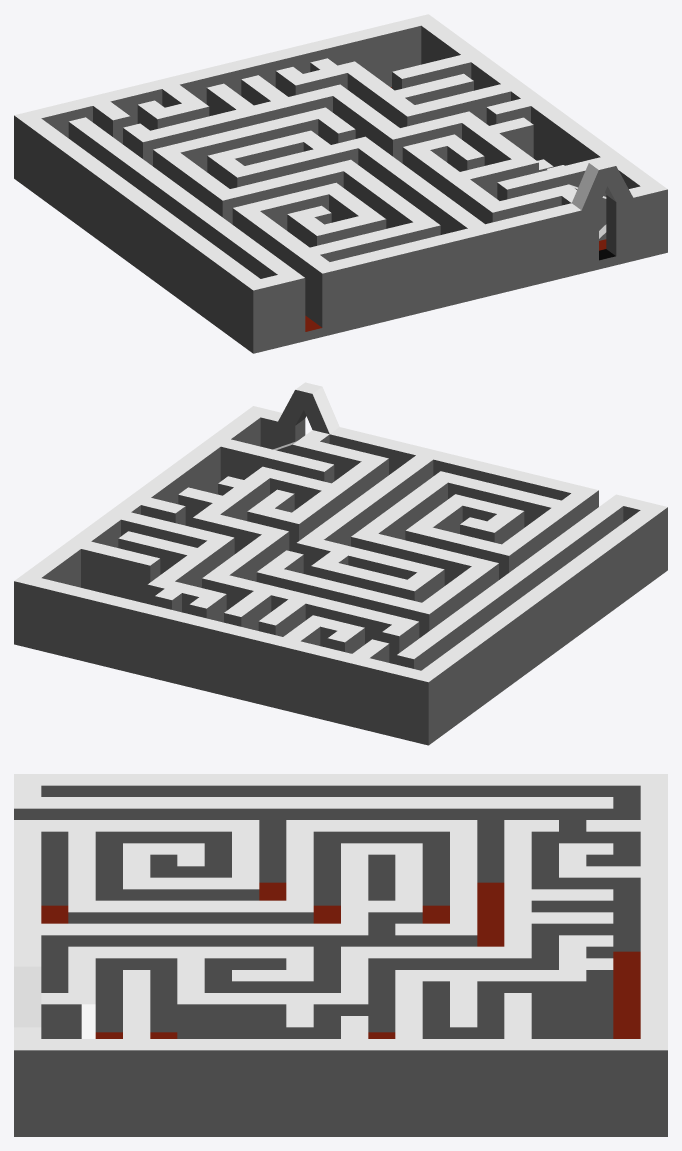
Rendered from maze1.glb.
3 renders of one model, top to bottom at view 1: azimuth 30°, elevation 25°; view 2: azimuth 150°, elevation 25°; view 3: azimuth 270°, elevation 25°, orthographic. The views are drawn at different scales.
Parts seen in each view (by area): view 1: Cube; view 2: Cube; view 3: Cube.
Boxes of the visible parts, box(x1,y1,x2,y2) form: Cube: box(14, 14, 667, 353); Cube: box(14, 382, 667, 745); Cube: box(14, 774, 667, 1136).
Bounding box in the file's own units: 48 × 11 × 48.
